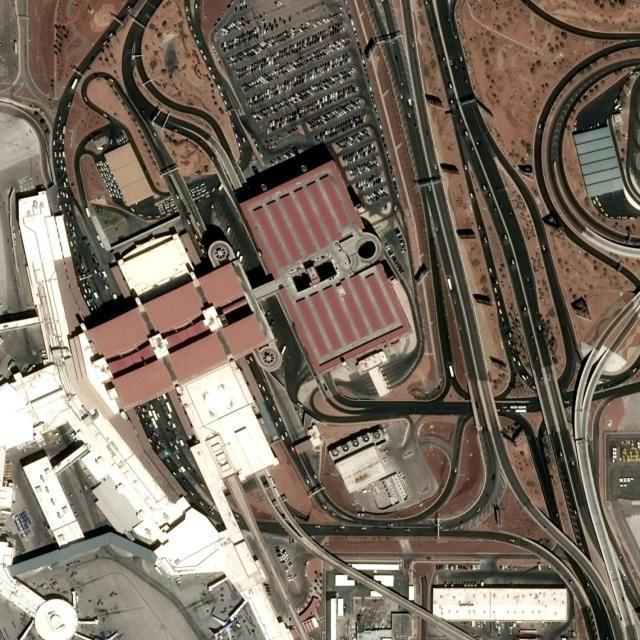Aircraft: (208, 613, 236, 640), (93, 630, 123, 640)
